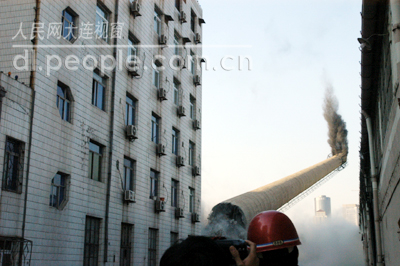dust: (315, 91, 351, 164)
